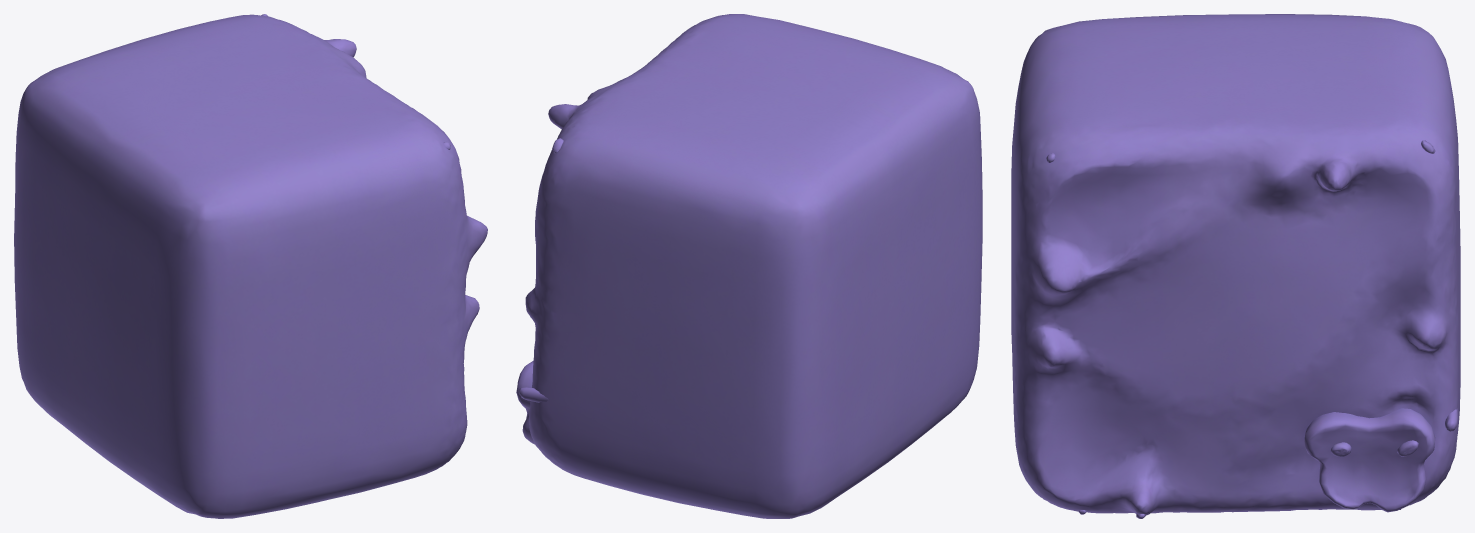
Rendered from Tripo_glaze_bar.fbx.
3 renders of one model, left to right at view 1: azimuth 30°, elevation 25°; view 2: azimuth 150°, elevation 25°; view 3: azimuth 270°, elevation 25°, orthographic. The views are drawn at different scales.
Parts seen in each view (by area): view 1: Tripo_glaze_bar; view 2: Tripo_glaze_bar; view 3: Tripo_glaze_bar.
Boxes of the visible parts, <box> form: Tripo_glaze_bar: <box>14,14,487,518</box>; Tripo_glaze_bar: <box>516,14,982,518</box>; Tripo_glaze_bar: <box>1011,14,1460,518</box>.
Size of the model in its own units: 0.8809 by 0.9551 by 0.998.
Materials: 1 (1 with a texture image).
